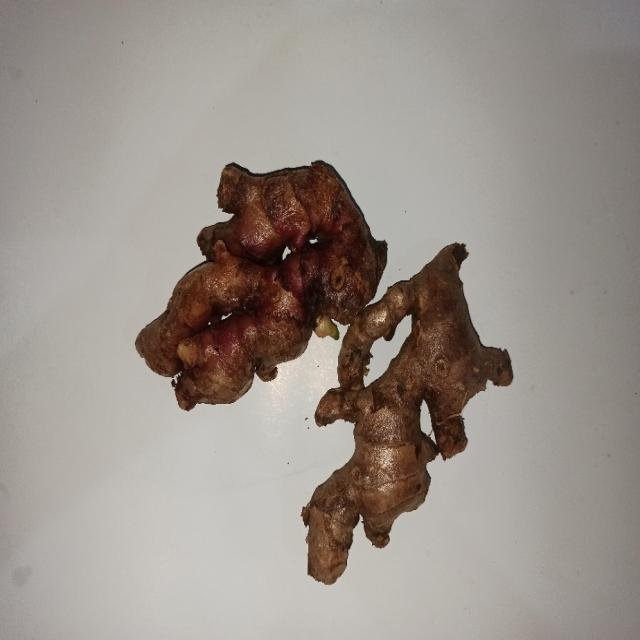ginger: (304, 262, 516, 596), (142, 162, 376, 408)
